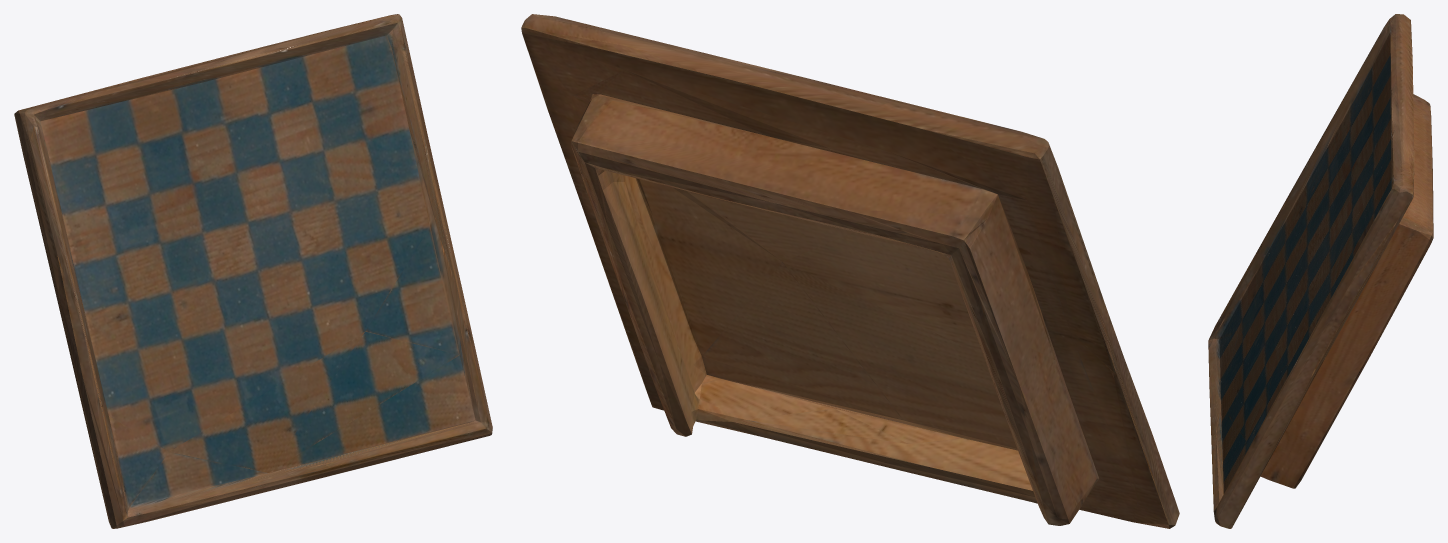
File: 63774362-8F38-EB4E-9CEE-81B2C03E9E95_512.glb
The picture shows the model from 3 angles, left to right: view 1: azimuth 30°, elevation 25°; view 2: azimuth 150°, elevation 25°; view 3: azimuth 270°, elevation 25°; orthographic projection. The views are drawn at different scales.
Parts seen in each view (by area): view 1: Schachbrett_0.8k_512; view 2: Schachbrett_0.8k_512; view 3: Schachbrett_0.8k_512.
Part boxes in pixels (x1,y1,x2,y2): Schachbrett_0.8k_512: (14, 14, 492, 528); Schachbrett_0.8k_512: (521, 14, 1179, 528); Schachbrett_0.8k_512: (1208, 14, 1433, 528).
Bounding box in the file's own units: 0.4558 × 0.4048 × 0.2408.
Materials: 1 (1 with a texture image).
